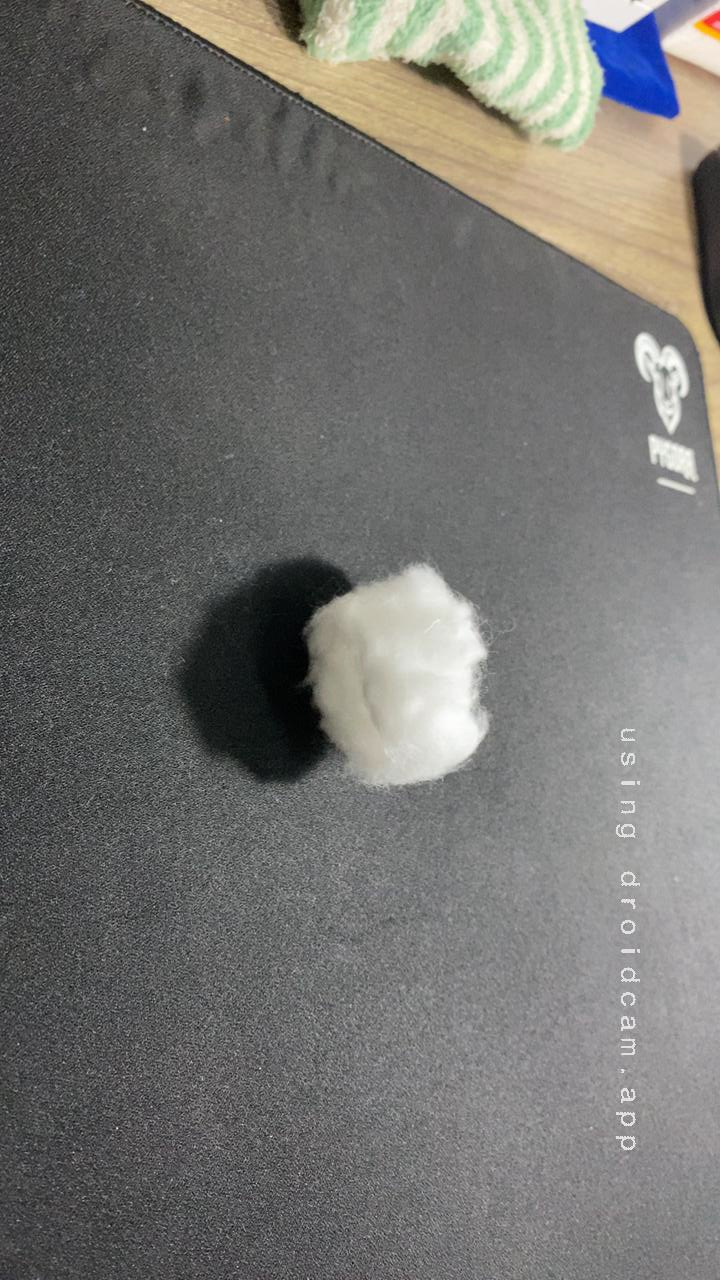cotton: (278, 537, 522, 808)
